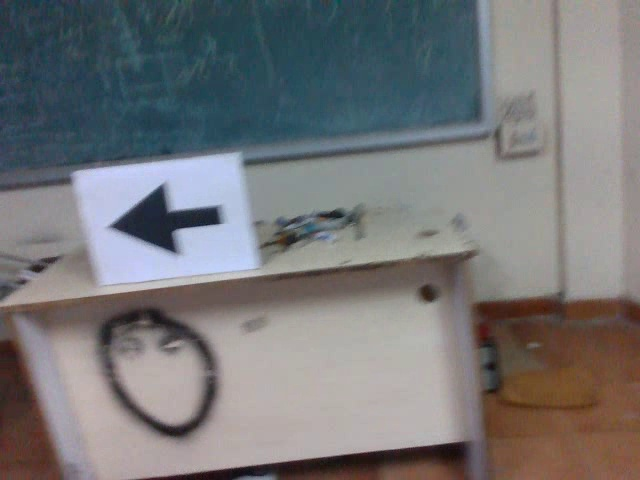Left: (101, 173, 227, 263)
